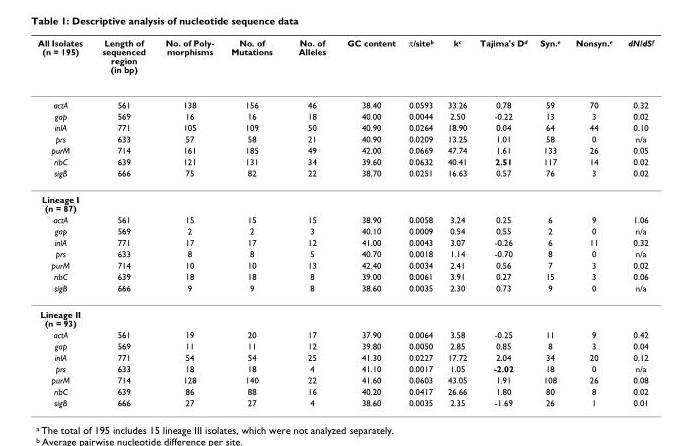table: (37, 36, 652, 407)
table column: (154, 36, 221, 407), (335, 36, 401, 407), (91, 36, 154, 407), (221, 36, 284, 407), (472, 36, 532, 407), (37, 36, 91, 407), (567, 36, 619, 407), (284, 36, 335, 407), (401, 36, 439, 407), (532, 36, 567, 407), (439, 36, 472, 407), (619, 36, 652, 407)
table column header: (37, 36, 652, 86)
table projected row header: (37, 185, 652, 213), (37, 300, 652, 328)
table row: (37, 36, 652, 86), (37, 185, 652, 213), (37, 300, 652, 328), (37, 86, 652, 110), (37, 166, 652, 185), (37, 281, 652, 300), (37, 132, 652, 144), (37, 224, 652, 236), (37, 247, 652, 259), (37, 339, 652, 351), (37, 373, 652, 385), (37, 110, 652, 121), (37, 121, 652, 132), (37, 144, 652, 155), (37, 155, 652, 166), (37, 213, 652, 224), (37, 236, 652, 247), (37, 259, 652, 270), (37, 270, 652, 281), (37, 328, 652, 339), (37, 351, 652, 362), (37, 362, 652, 373), (37, 385, 652, 396), (37, 396, 652, 407)
